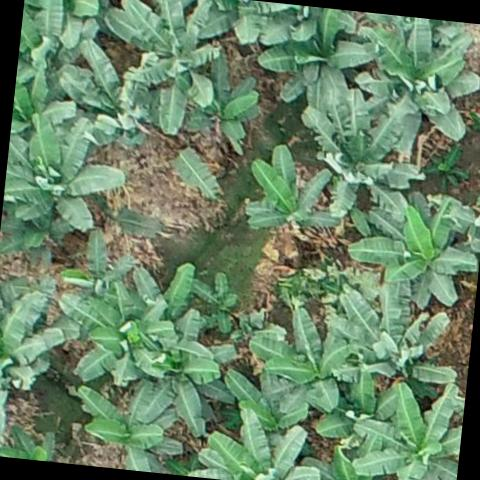Banana-plant: (348, 12, 480, 160), (292, 83, 429, 222), (324, 264, 468, 394), (344, 187, 480, 313), (109, 0, 223, 142), (1, 112, 134, 230), (49, 265, 169, 386), (254, 1, 376, 112), (246, 308, 354, 422), (350, 375, 466, 480), (52, 35, 158, 147), (69, 376, 185, 474), (135, 305, 225, 430), (238, 139, 342, 245), (0, 286, 66, 425), (204, 404, 323, 480), (316, 366, 404, 456), (13, 0, 87, 101), (60, 224, 136, 302), (10, 68, 80, 136)
